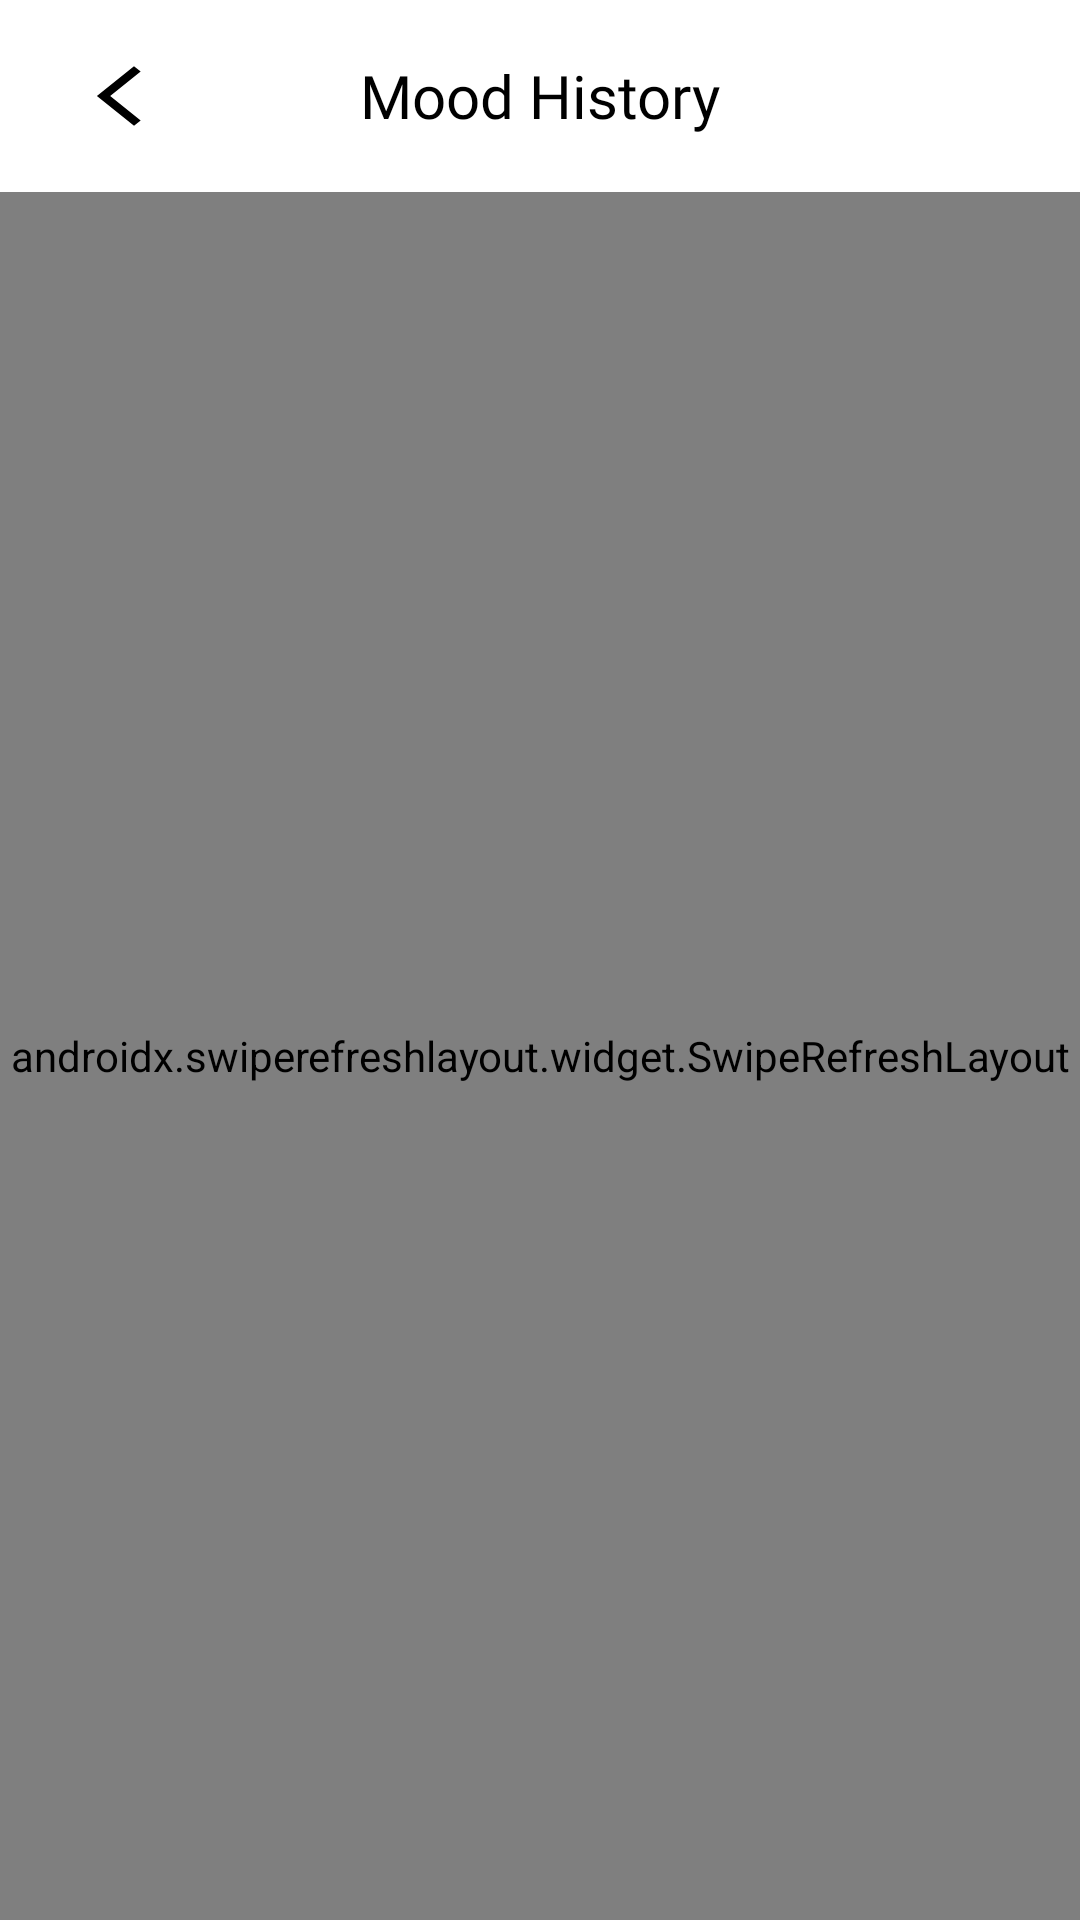

Screen size 1080px×1920px. Icon name, then its box in pixels as (x1, y1, x2, y2):
Back button: (97, 66, 141, 126)
